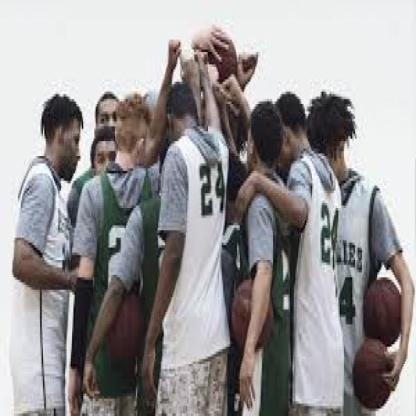basketball: (352, 337, 394, 409), (231, 282, 272, 352), (106, 290, 144, 362), (365, 277, 402, 347), (205, 32, 240, 97)
